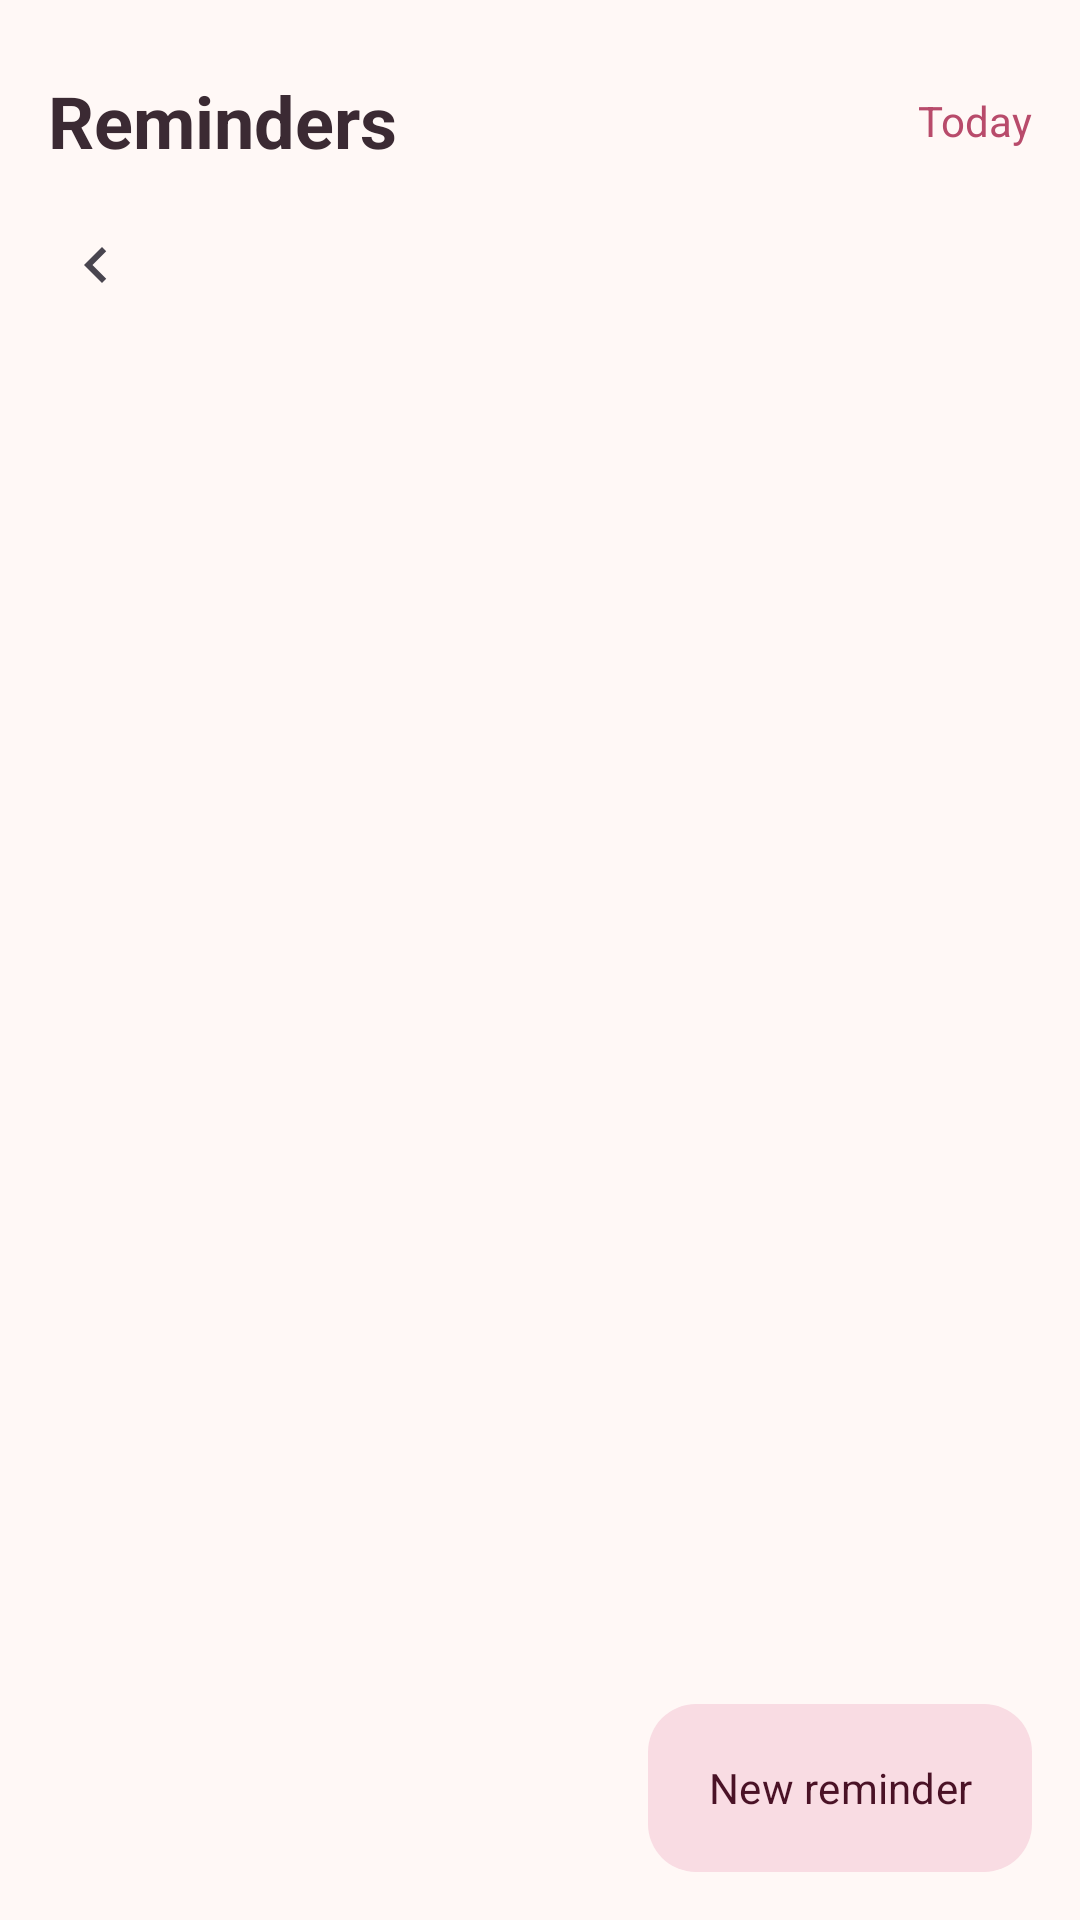

Where icons sit on this 1080 × 1920 app screen, as {"x1": x1, "y1": y1, "x2": x2, "y2": y2}:
Previous month: {"x1": 84, "y1": 247, "x2": 106, "y2": 283}
